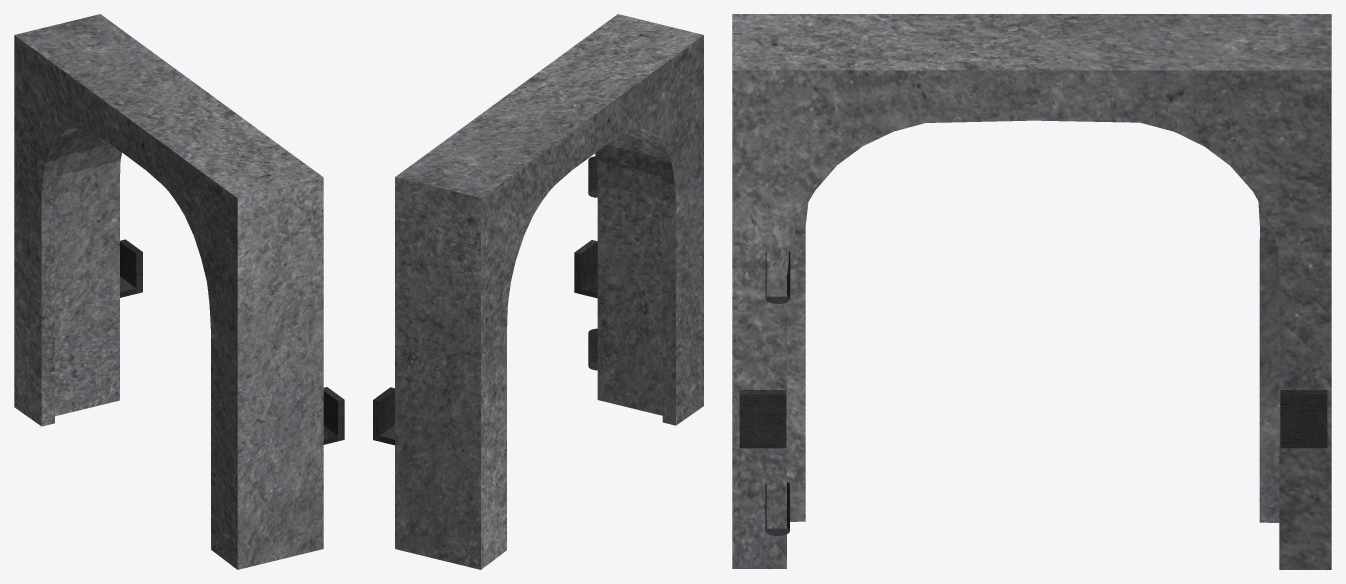
Rendered from DAEdoorframe.dae.
3 renders of one model, left to right at view 1: azimuth 30°, elevation 25°; view 2: azimuth 150°, elevation 25°; view 3: azimuth 270°, elevation 25°, orthographic. The views are drawn at different scales.
Visible parts, largest first — view 1: DoorFrame; view 2: DoorFrame; view 3: DoorFrame.
Boxes of the visible parts, left/top/right/bottom form: DoorFrame: left=14, top=14, right=344, bottom=569; DoorFrame: left=373, top=14, right=703, bottom=569; DoorFrame: left=732, top=14, right=1331, bottom=569.
Size of the model in its own units: 0.9688 by 3.42 by 3.14.
Materials: 1 (1 with a texture image).
